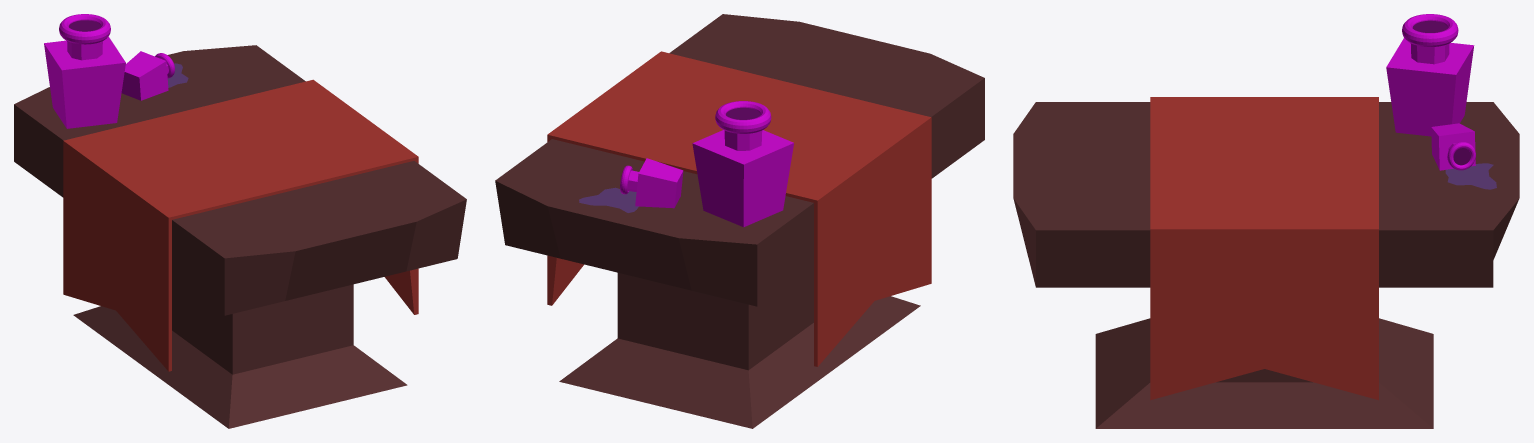
File: bottle table.gltf
The picture shows the model from 3 angles, left to right: view 1: azimuth 30°, elevation 25°; view 2: azimuth 150°, elevation 25°; view 3: azimuth 270°, elevation 25°; orthographic projection. The views are drawn at different scales.
Visible parts, largest first — view 1: Cube, Cube.001, Cube.004, Torus, Cube.002; view 2: Cube, Cube.001, Cube.004, Torus, Cube.002, Plane; view 3: Cube, Cube.001, Cube.004, Torus, Cube.002, Plane.
Boxes of the visible parts, bbox=[...] form: Cube: bbox=[14, 45, 466, 428]; Cube.001: bbox=[44, 36, 125, 128]; Cube.004: bbox=[121, 51, 168, 100]; Torus: bbox=[59, 14, 110, 44]; Cube.002: bbox=[67, 20, 102, 60]; Cube: bbox=[495, 14, 984, 428]; Cube.001: bbox=[692, 130, 793, 227]; Cube.004: bbox=[635, 158, 683, 208]; Torus: bbox=[715, 101, 771, 133]; Cube.002: bbox=[724, 107, 762, 150]; Plane: bbox=[579, 187, 638, 212]; Cube: bbox=[1013, 97, 1519, 428]; Cube.001: bbox=[1386, 38, 1474, 136]; Cube.004: bbox=[1431, 123, 1475, 170]; Torus: bbox=[1402, 14, 1458, 46]; Cube.002: bbox=[1410, 20, 1449, 64]; Plane: bbox=[1445, 163, 1496, 189].
Size of the model in its own units: 2.64 by 2.93 by 4.27.
